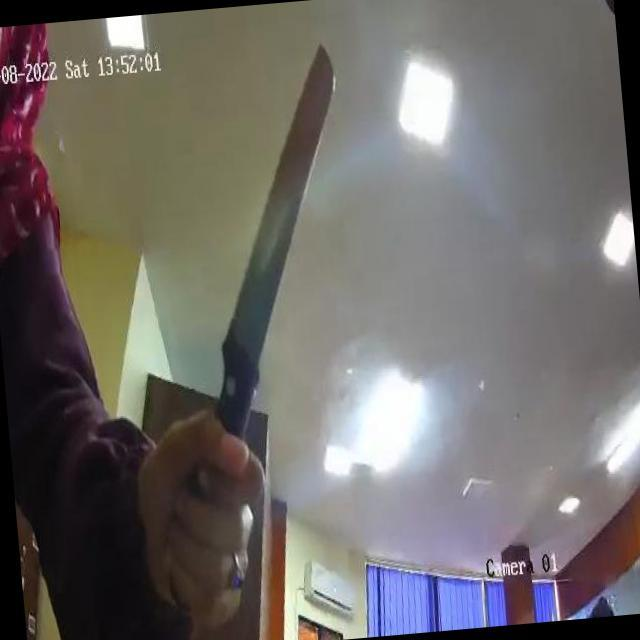Knife: (132, 36, 385, 607)
